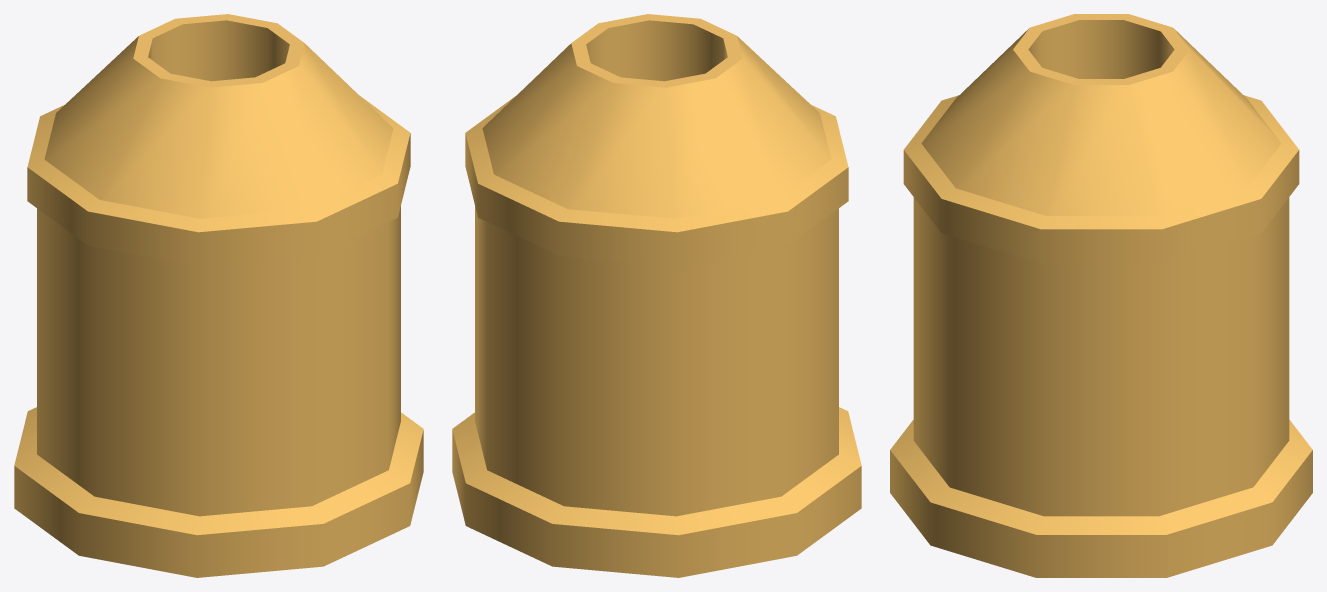
File: wujian02.FBX
3 views of the same model, side by side, from view 1: azimuth 30°, elevation 25°; view 2: azimuth 150°, elevation 25°; view 3: azimuth 270°, elevation 25° (orthographic).
Size of the model in its own units: 219 by 267 by 230.
